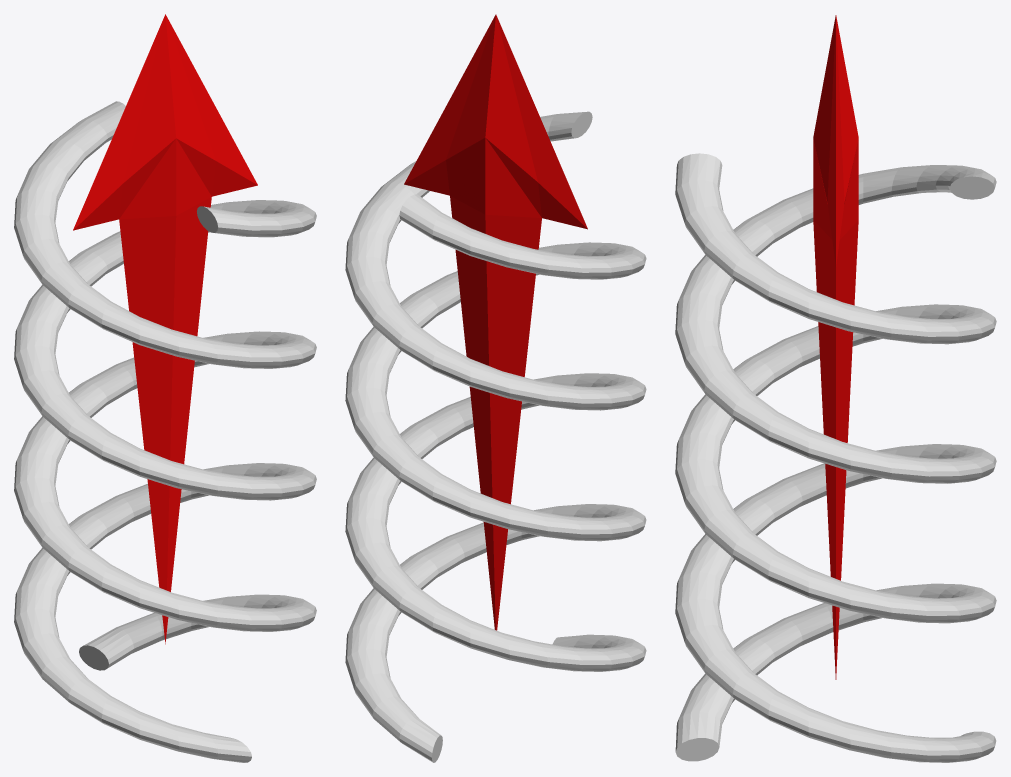
The model's file is newsuperjump.fbx.
3 renders of one model, left to right at view 1: azimuth 30°, elevation 25°; view 2: azimuth 150°, elevation 25°; view 3: azimuth 270°, elevation 25°, orthographic. The views are drawn at different scales.
Visible parts, largest first — view 1: Cube#2; view 2: Cube#2; view 3: Cube#2.
Part boxes in pixels (x1,y1,x2,y2): Cube#2: (14, 14, 316, 762); Cube#2: (345, 14, 646, 762); Cube#2: (675, 15, 996, 762).
Size of the model in its own units: 0.2829 by 0.7226 by 0.2829.
2 materials, 1 textured.
